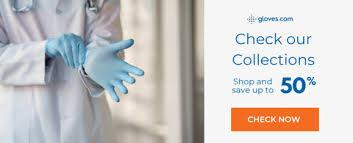Glove: (83, 39, 143, 101), (45, 34, 85, 67)
